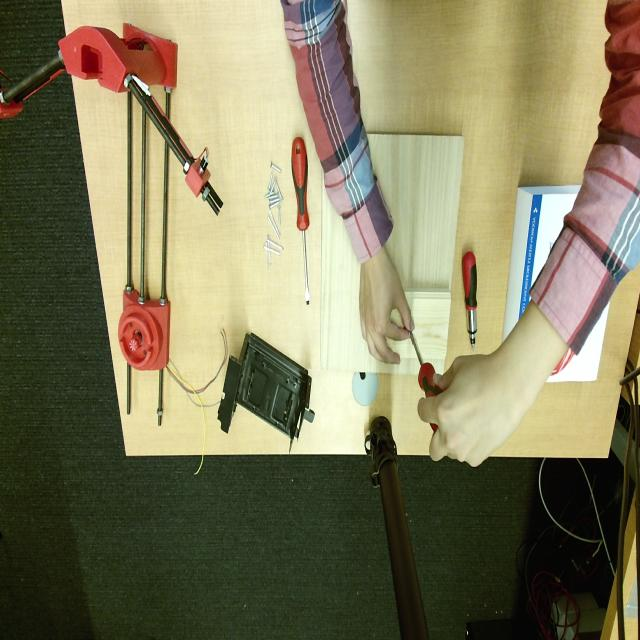screwdriver: (291, 138, 310, 304), (410, 331, 441, 398), (462, 251, 478, 349), (430, 422, 438, 433)
